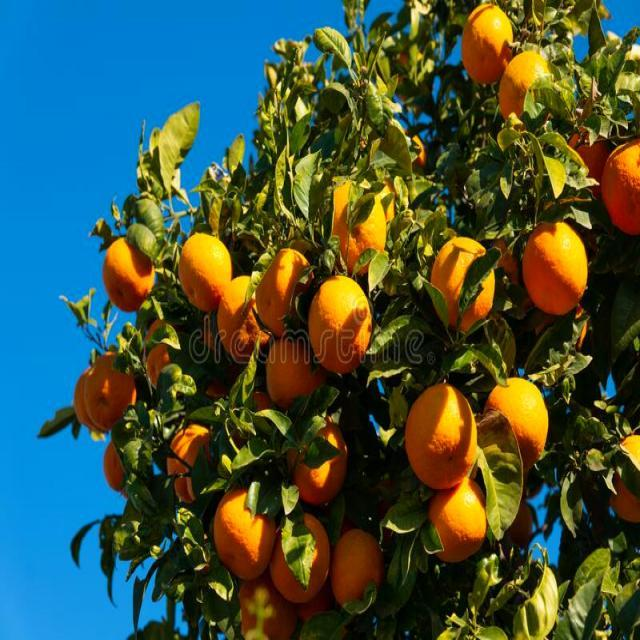Jeruk Sudah Matang: (404, 383, 482, 491), (520, 220, 593, 322), (307, 272, 372, 378), (482, 377, 549, 475), (428, 234, 496, 328), (214, 482, 277, 582), (283, 410, 349, 501), (320, 182, 384, 275), (255, 247, 318, 335), (423, 476, 488, 560), (330, 524, 387, 616), (263, 332, 332, 406), (561, 121, 613, 216), (220, 273, 272, 363), (82, 350, 138, 433), (458, 1, 514, 84), (232, 573, 300, 640), (498, 49, 554, 130), (176, 232, 232, 310), (165, 420, 219, 500), (600, 133, 640, 240), (102, 236, 156, 310), (609, 433, 640, 528), (142, 342, 179, 389)
